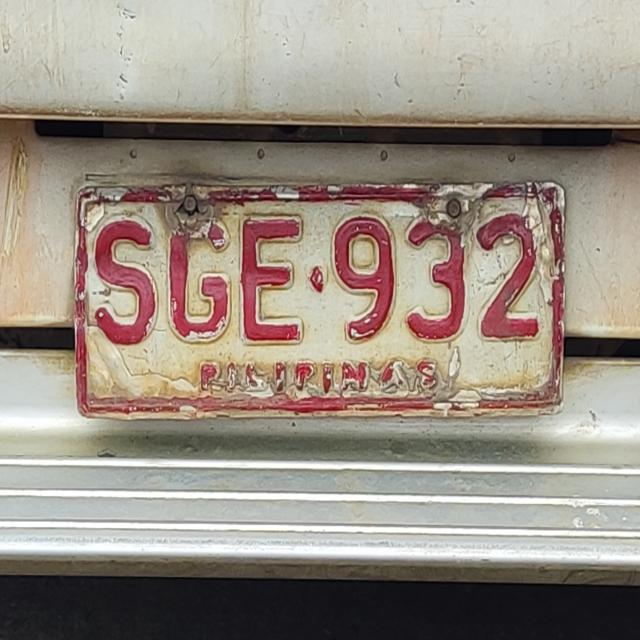plate: (66, 172, 574, 430)
